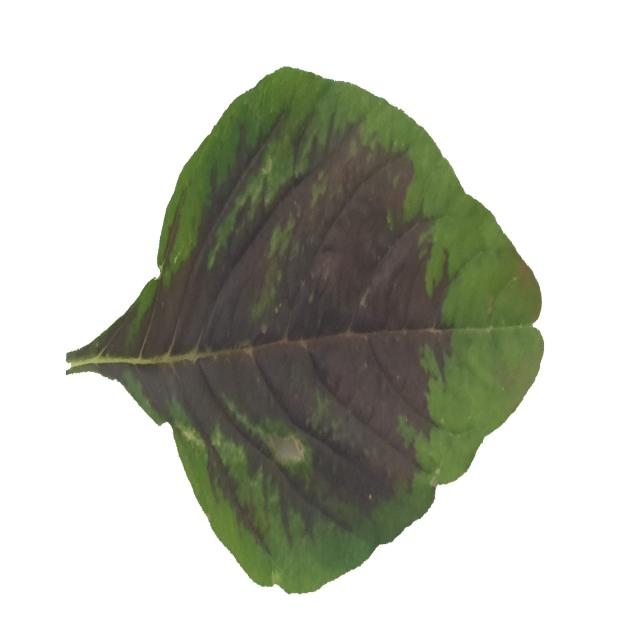Medicinal-Arive Dantu: (70, 66, 544, 593)
